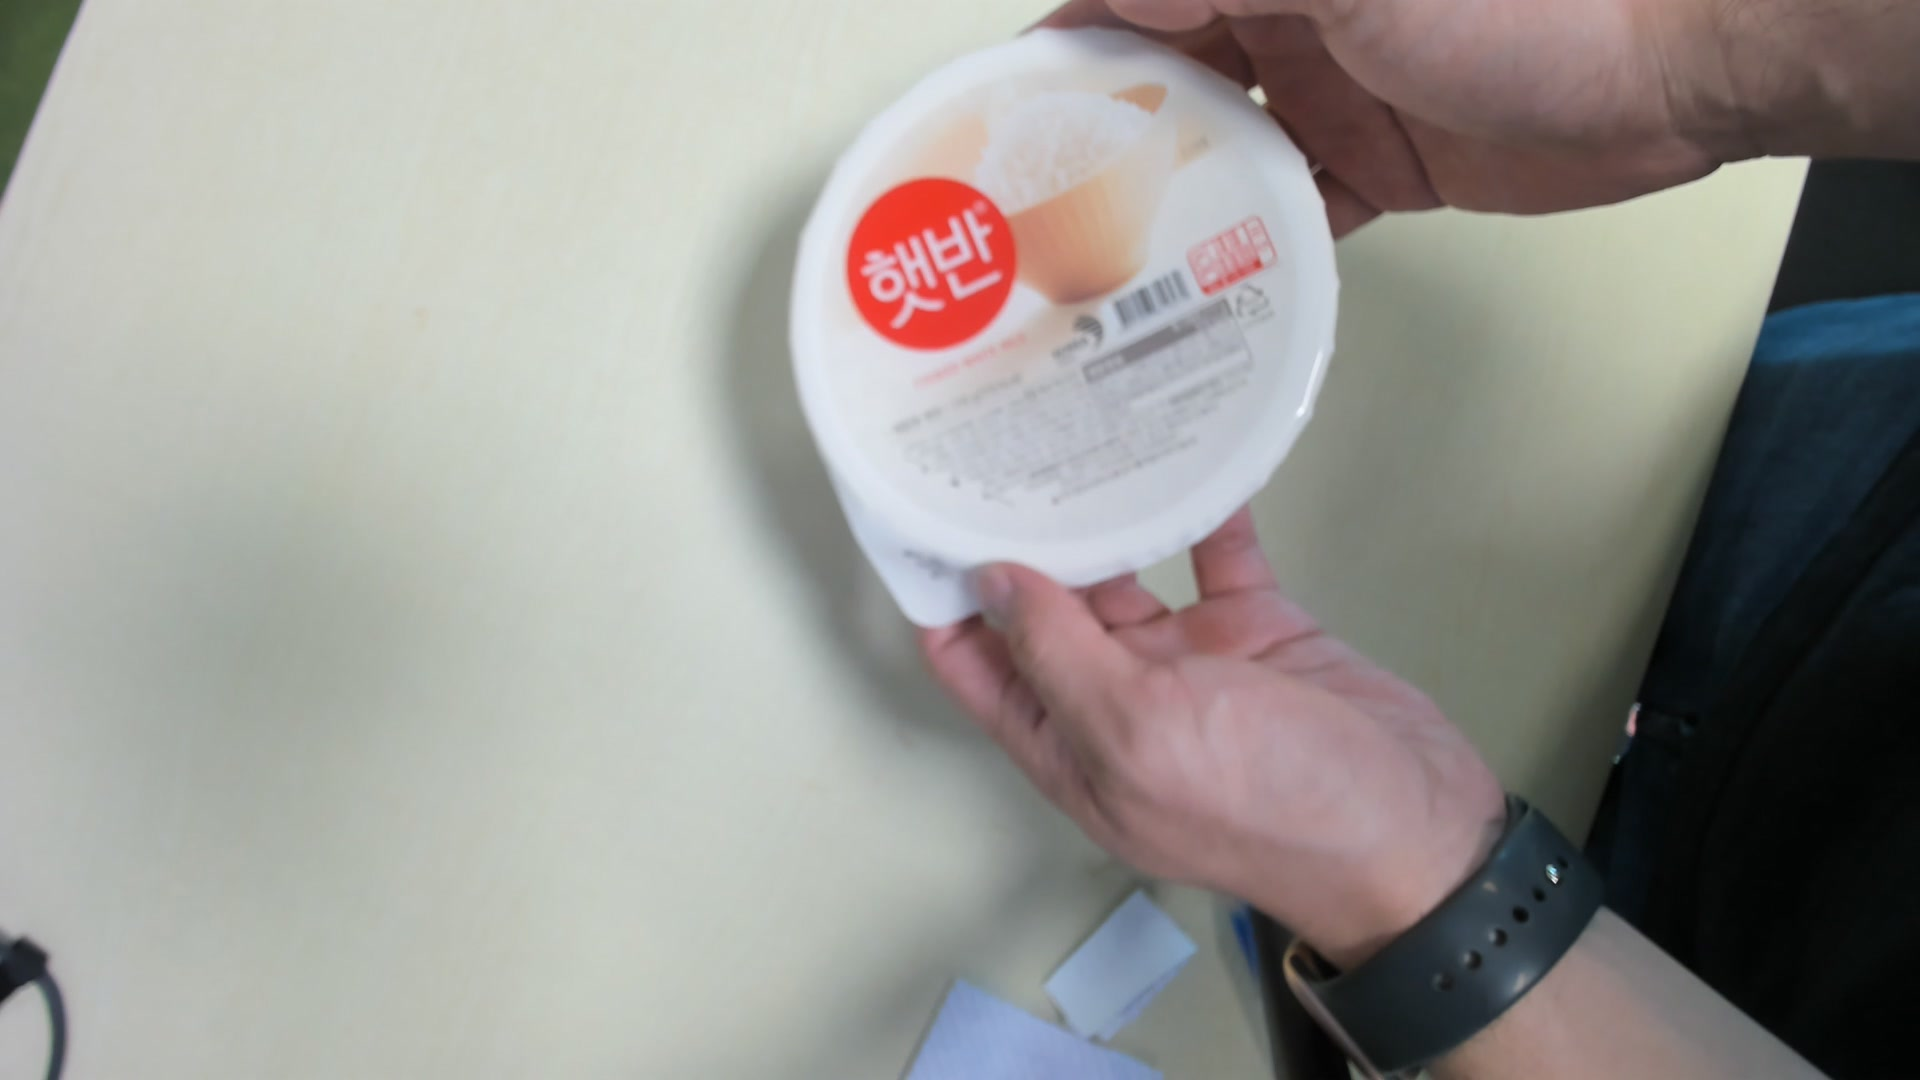Pasta_500-599g_Halal_NonHealthy: (781, 22, 1352, 636)
